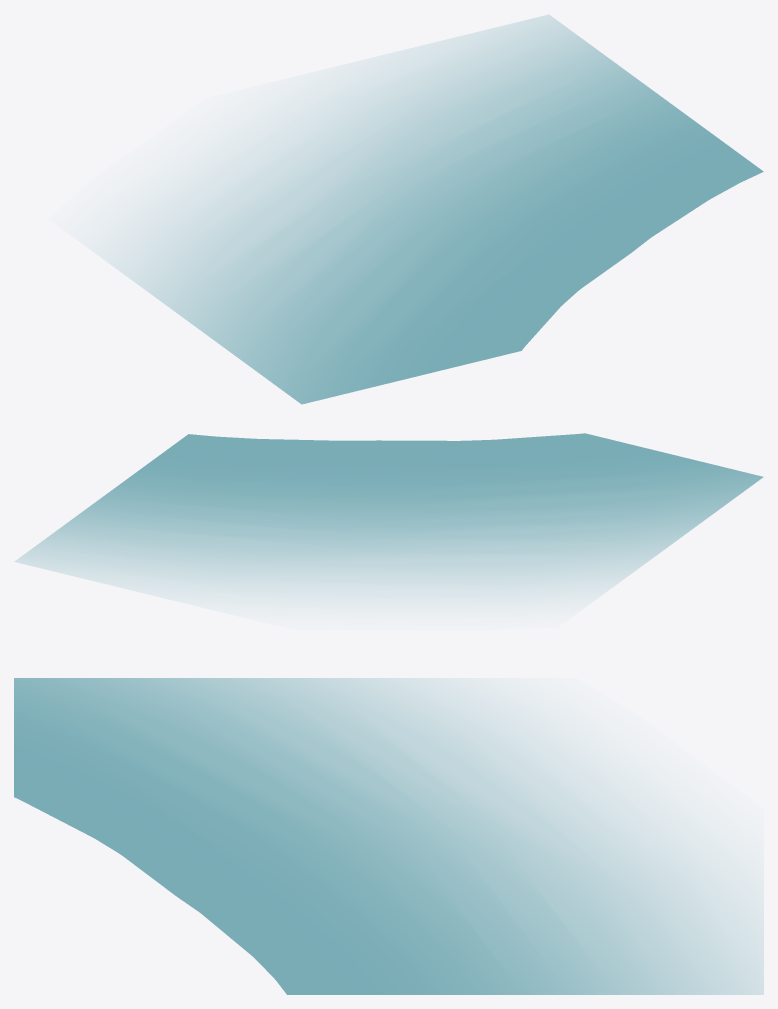
The picture shows the model from 3 angles, top to bottom: view 1: azimuth 30°, elevation 25°; view 2: azimuth 150°, elevation 25°; view 3: azimuth 270°, elevation 25°; orthographic projection. The views are drawn at different scales.
Visible parts, largest first — view 1: city; view 2: city; view 3: city.
Boxes of the visible parts, x1,y1,x2,y2 form: city: (100, 15, 763, 404); city: (14, 433, 763, 601); city: (14, 678, 763, 994).
Bounding box in the file's own units: 500 × 0 × 500.
